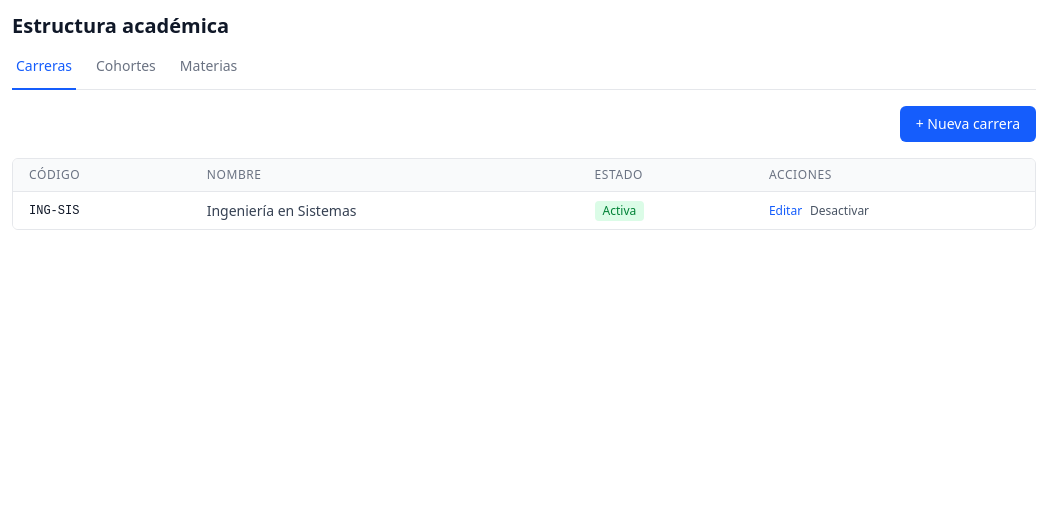
EstructuraPage › 12.4c: "Nueva carrera" button opens create form
Expected: the text "ING-SIS" is shown, [13,192,191,229]
What coordinates should you click on to do the following:
click the button "+ Nueva carrera"
I would click on:
 (968, 124)
Its box is [900,106,1036,142].
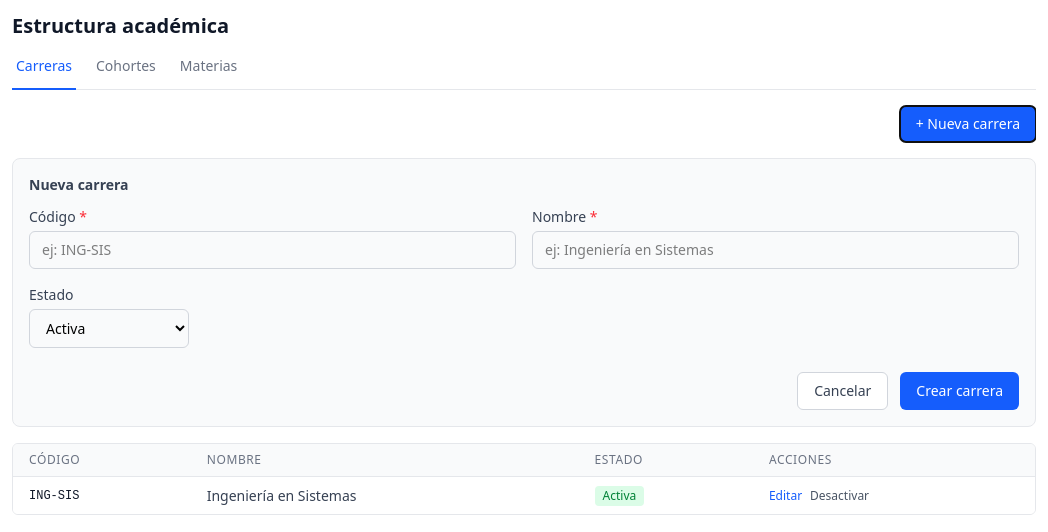
Now the heading "Nueva carrera" is shown, box [29,175,128,194]
Now the field with placeholder "ej: ING-SIS" is shown, box [29,231,516,269]
